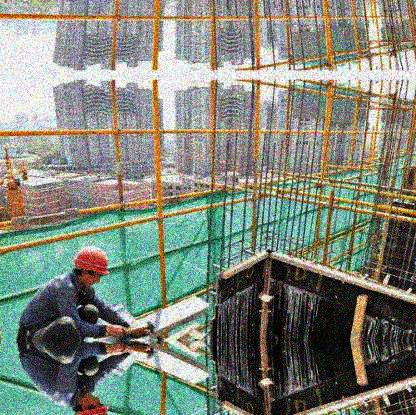helmet: (74, 247, 111, 290), (71, 393, 110, 414)
